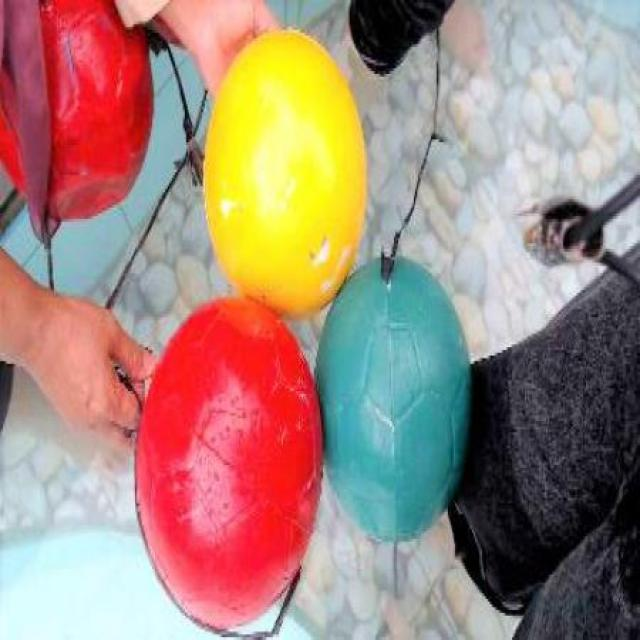buoy: (133, 295, 322, 629), (202, 28, 364, 316), (311, 253, 471, 541), (0, 0, 154, 219)
